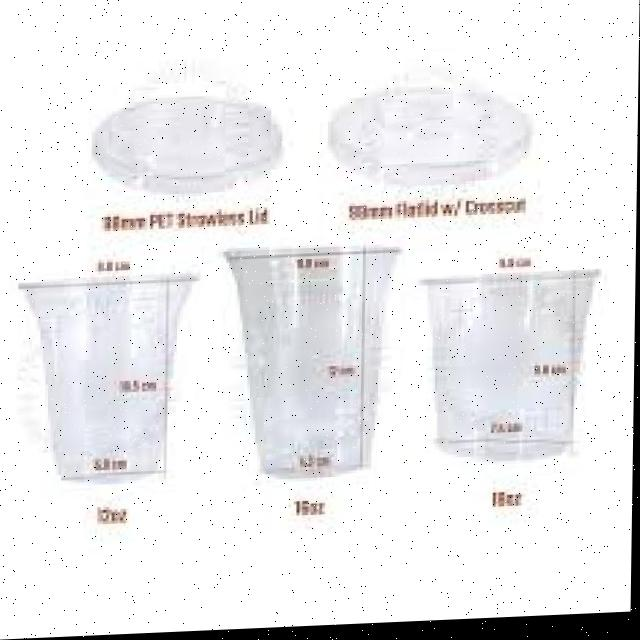cup: (205, 222, 418, 497), (10, 254, 212, 505), (418, 261, 607, 477)
